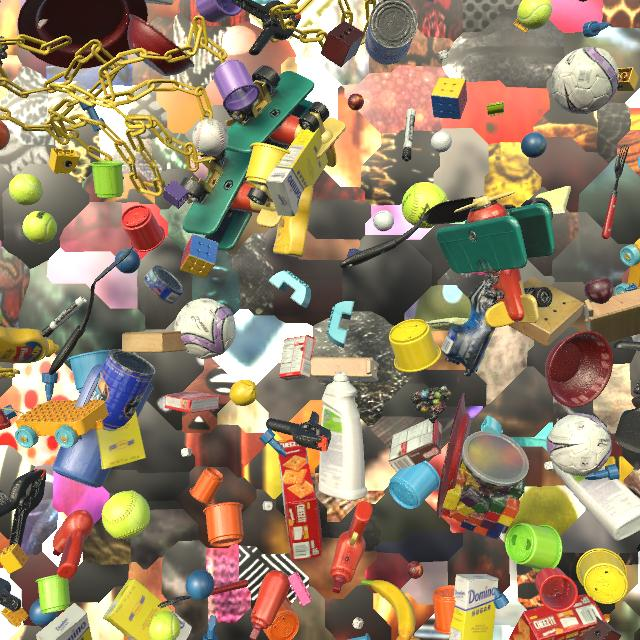ycb_002_master_chef_can: (92, 349, 156, 431), (365, 0, 418, 65)
ycb_003_cracker_box: (278, 439, 322, 561), (509, 594, 606, 640)
ycb_004_sugar_box: (266, 128, 328, 216), (103, 579, 192, 640), (90, 394, 146, 470), (449, 574, 499, 640), (36, 603, 92, 640)
ycb_006_mustard_bottle: (273, 186, 313, 258), (0, 326, 60, 364)
ycb_007_tuna_fish_can: (143, 265, 185, 304)
ycb_008_pudding_box: (389, 418, 442, 472)
ycb_009_gelatin_box: (279, 335, 316, 380), (165, 391, 220, 413), (38, 19, 48, 29)
ycb_011_banana: (361, 580, 416, 640)
ycb_014_lemon: (230, 379, 258, 406)
ycb_015_peach: (396, 635, 420, 640)
ycb_017_orange: (0, 120, 10, 150)
ycb_018_plum: (584, 277, 613, 304)
